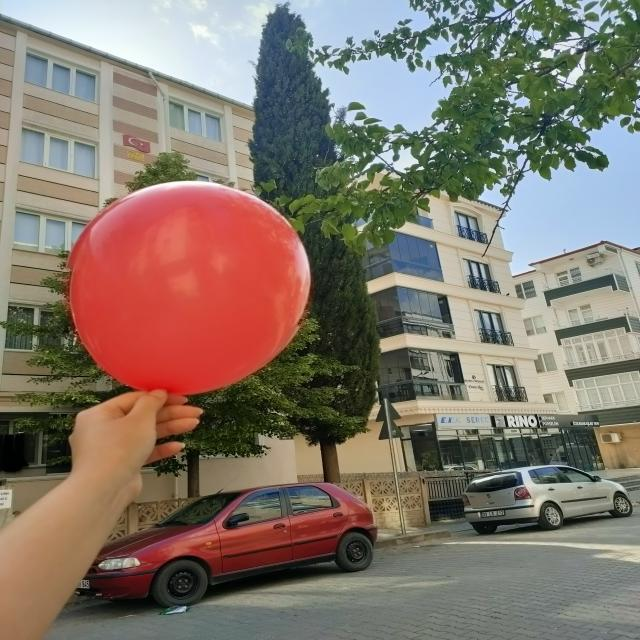red: (66, 181, 314, 406)
